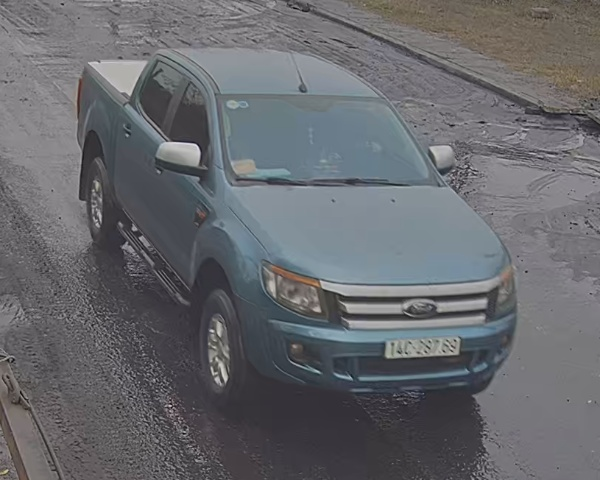vehicle plate: (378, 333, 470, 363)
